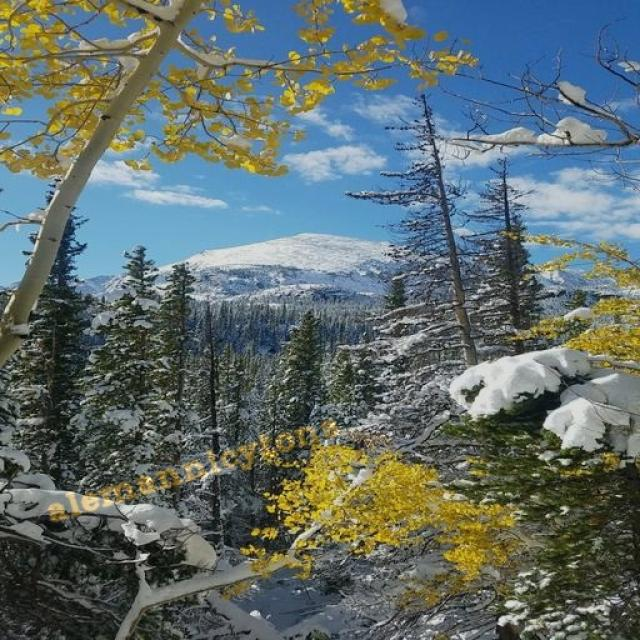watermark: (41, 409, 342, 526)
